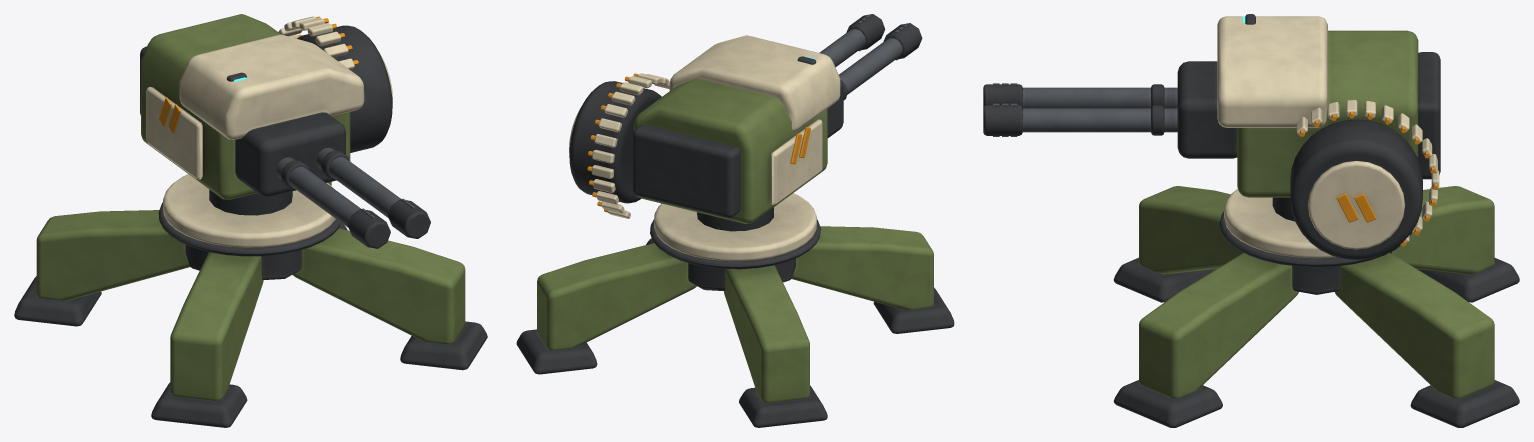
The model's file is kestrel_frontier_olive.glb.
3 renders of one model, left to right at view 1: azimuth 30°, elevation 25°; view 2: azimuth 150°, elevation 25°; view 3: azimuth 270°, elevation 25°, orthographic. The views are drawn at different scales.
Visible parts, largest first — view 1: Kestrel_Base, Kestrel_Head; view 2: Kestrel_Base, Kestrel_Head; view 3: Kestrel_Head, Kestrel_Base.
Boxes of the visible parts, x1,y1,x2,y2 form: Kestrel_Base: [14, 174, 487, 427]; Kestrel_Head: [140, 14, 430, 248]; Kestrel_Base: [516, 193, 954, 427]; Kestrel_Head: [569, 14, 922, 231]; Kestrel_Head: [983, 14, 1440, 259]; Kestrel_Base: [1113, 186, 1519, 427].
Bounding box in the file's own units: 1.84 × 1.51 × 2.43.
6 materials, 5 textured.
